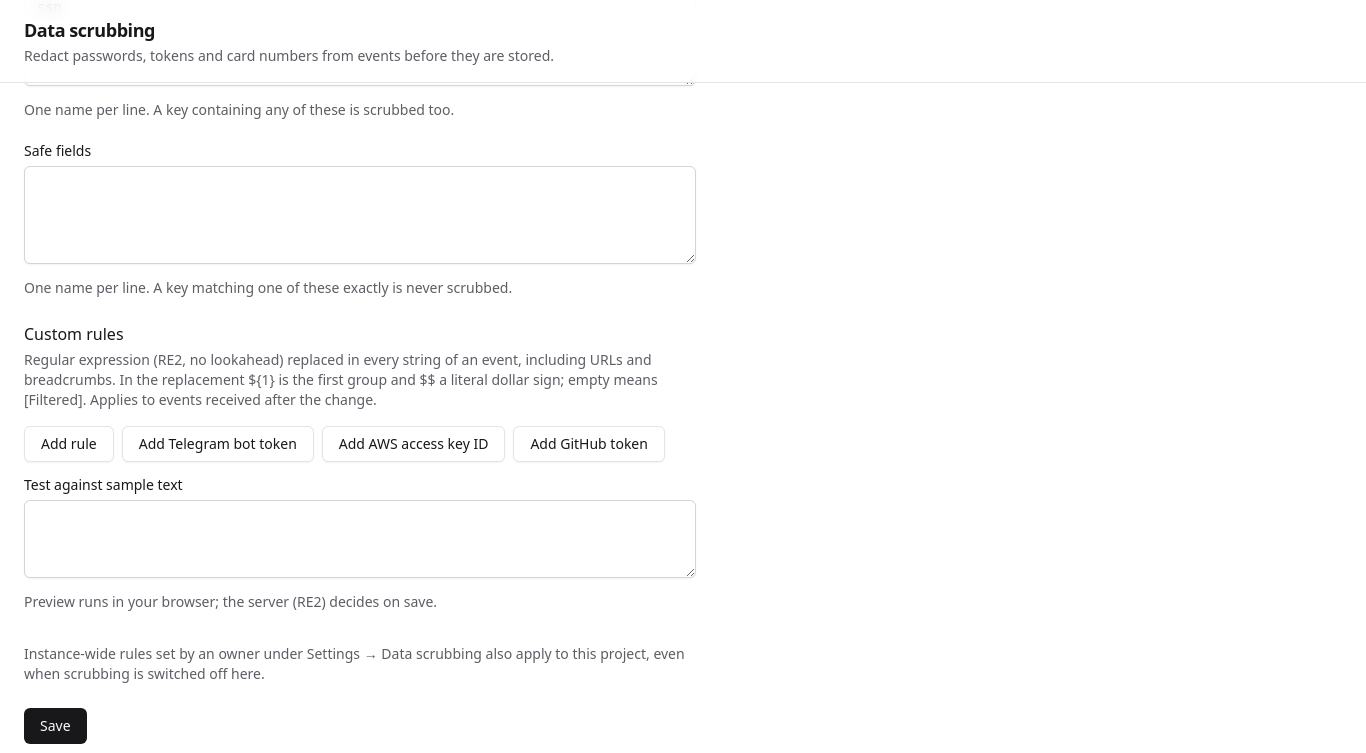
Scenario: DataScrubbingPage › clears Saved. once a field is edited again
The width and height of the screenshot is (1366, 753).
(page scrolled)
Click the button "Save".
click(55, 726)  # box [24,708,87,744]
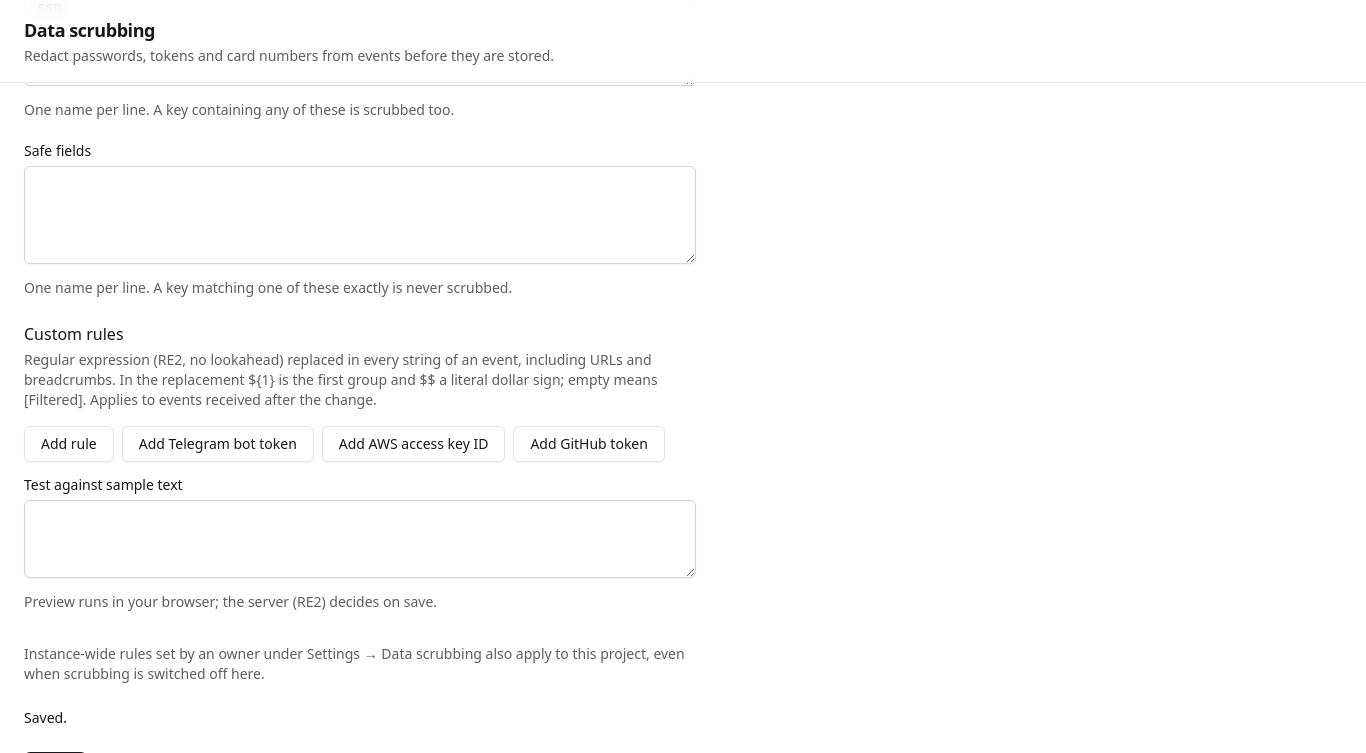
Expected: the text "Saved." is shown, [24,708,67,727]
Type "token" into the text box labelled "Safe fields".
click(360, 215); type("token")  # box [24,166,696,264]
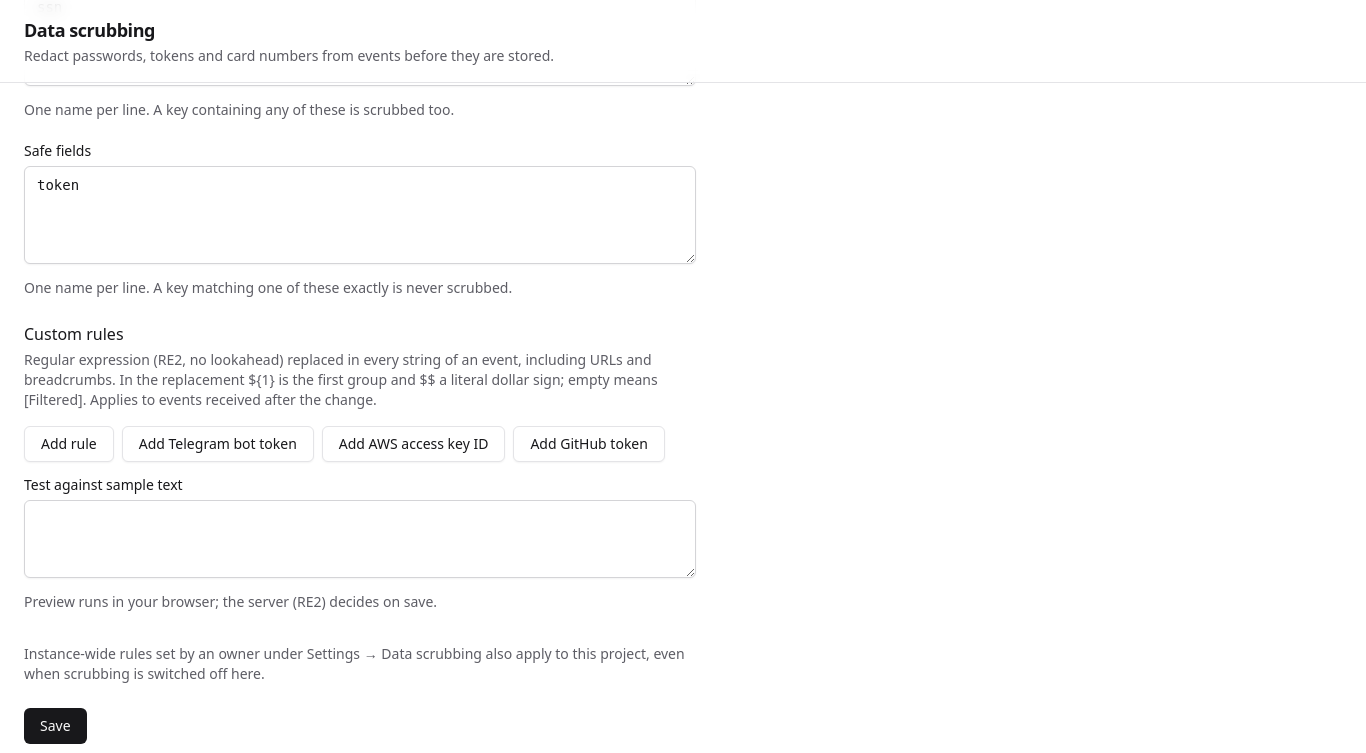
Expected: the text "Saved." is gone
